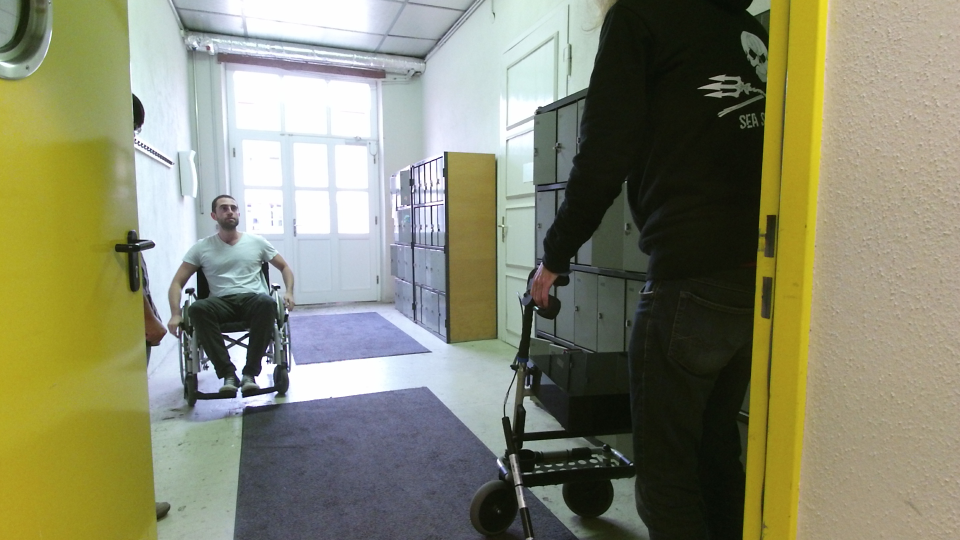wheelchair: (158, 187, 296, 404)
